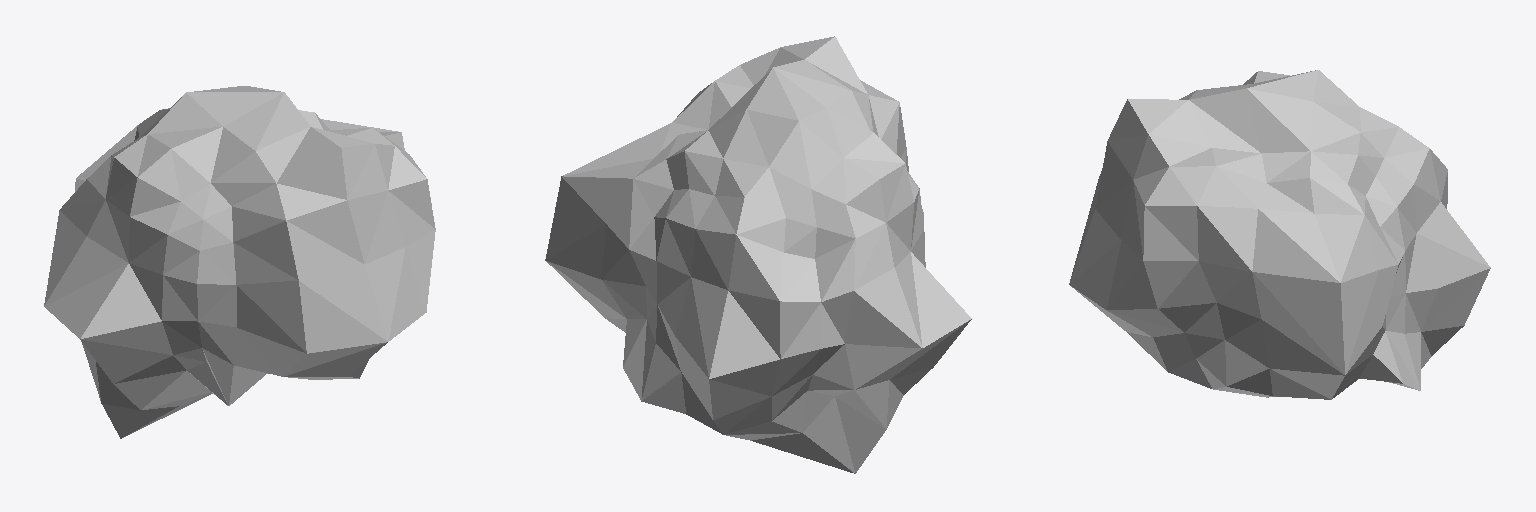
File: rock8.obj
The picture shows the model from 3 angles: view 1: azimuth 30°, elevation 25°; view 2: azimuth 150°, elevation 25°; view 3: azimuth 270°, elevation 25°; orthographic projection.
Parts seen in each view (by area): view 1: Mesh; view 2: Mesh; view 3: Mesh.
Part boxes in pixels (x1,y1,x2,y2): Mesh: (44, 86, 435, 438); Mesh: (545, 36, 971, 473); Mesh: (1069, 70, 1490, 399).
Size of the model in its own units: 3.13 by 2.73 by 3.01.